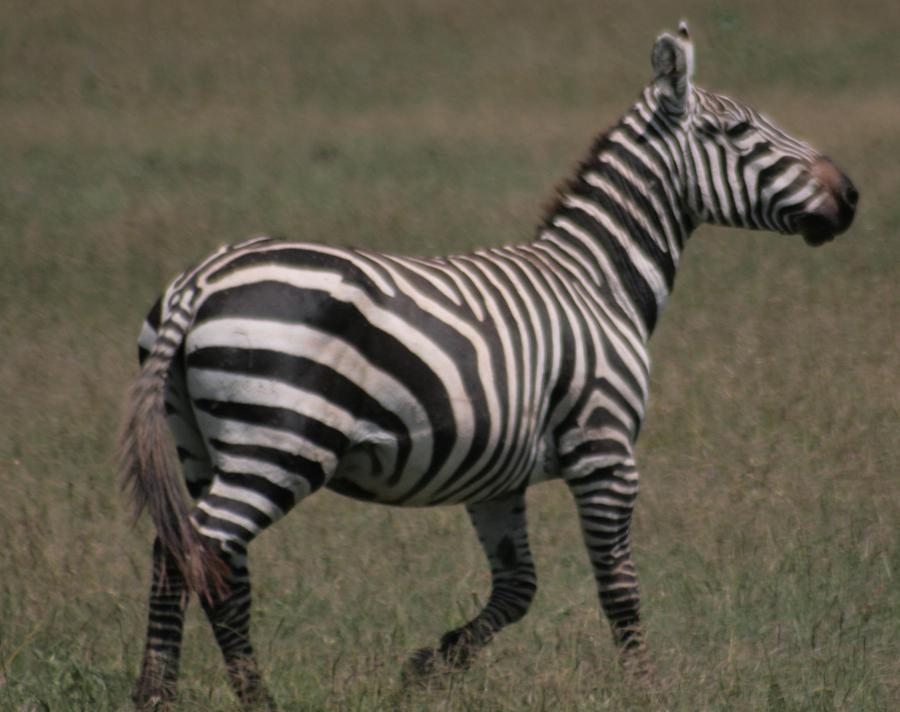zebra_plains: (199, 211, 642, 529)
